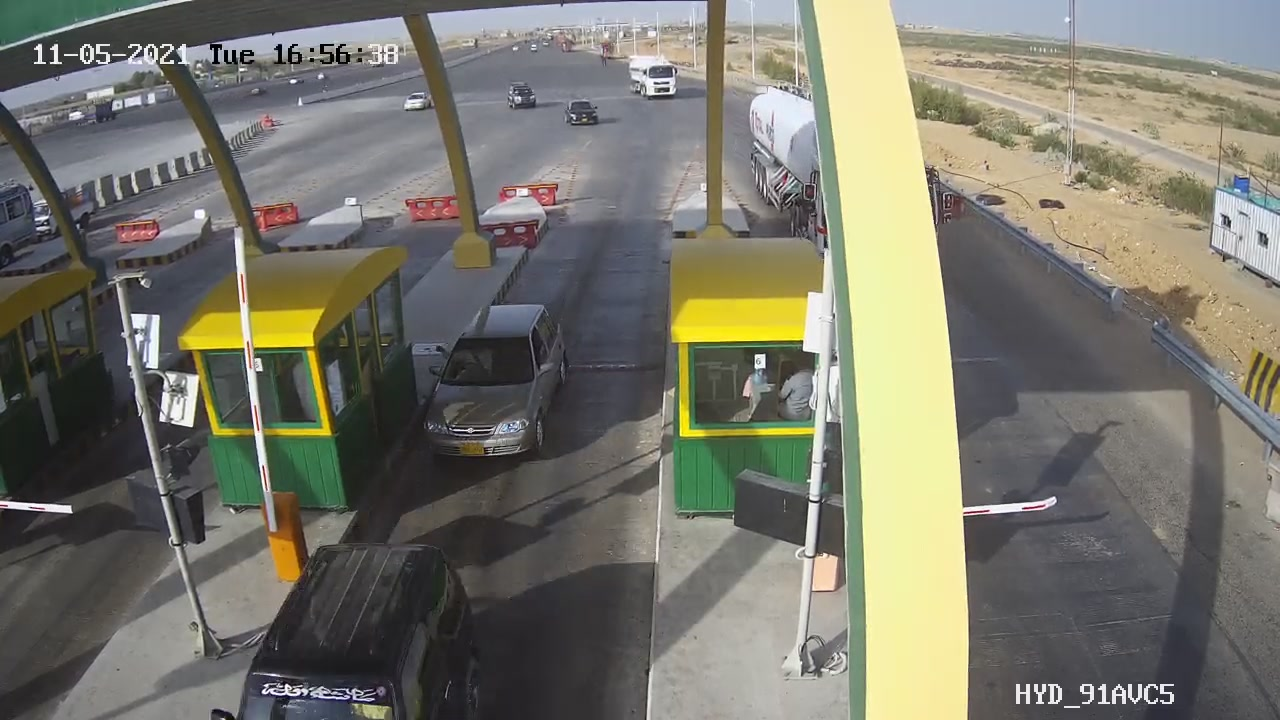F1: (403, 289, 581, 482)
